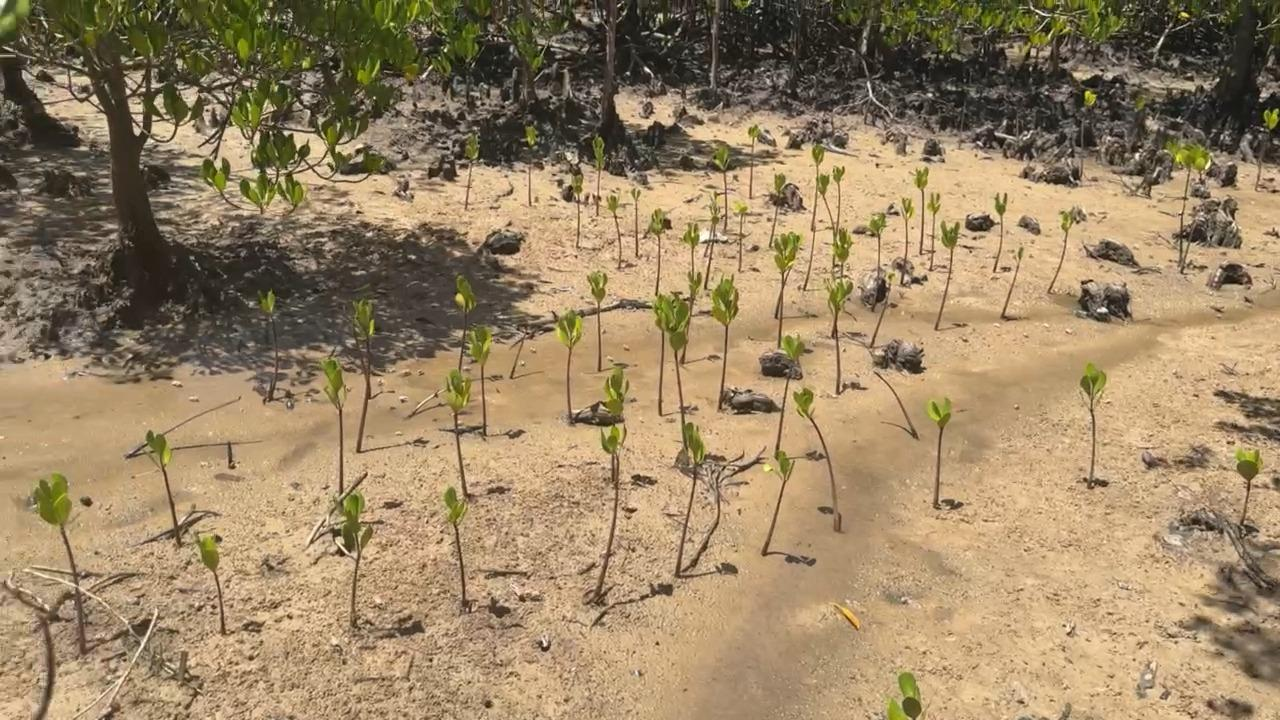Tree: (32, 474, 86, 654), (793, 388, 840, 530), (594, 421, 628, 599), (332, 491, 373, 624), (1166, 137, 1207, 257), (660, 295, 691, 450), (142, 429, 182, 544), (774, 333, 809, 462), (675, 422, 703, 574), (1181, 152, 1212, 273), (713, 271, 740, 408), (320, 356, 346, 496), (352, 299, 375, 452), (824, 277, 853, 395), (1080, 362, 1108, 482), (763, 449, 795, 552), (771, 231, 798, 348), (447, 368, 471, 499), (816, 165, 846, 268), (195, 535, 225, 635), (559, 308, 584, 421), (444, 486, 468, 602), (342, 300, 371, 396), (255, 289, 280, 399), (771, 231, 801, 320), (935, 222, 959, 332), (469, 323, 492, 434), (928, 397, 952, 503), (643, 207, 671, 295), (651, 293, 671, 414), (1047, 210, 1074, 292), (586, 271, 608, 369), (454, 274, 475, 375), (1255, 109, 1280, 190), (681, 269, 701, 364), (1237, 449, 1262, 524), (1076, 90, 1097, 178), (712, 145, 733, 231), (870, 273, 894, 348), (701, 201, 720, 289), (909, 167, 928, 254), (889, 672, 922, 720), (1002, 246, 1023, 318), (925, 189, 941, 271), (465, 134, 482, 208), (810, 144, 824, 230), (702, 191, 720, 256), (832, 227, 854, 280), (605, 196, 621, 268), (769, 172, 784, 247), (993, 192, 1007, 272), (591, 133, 604, 213), (683, 223, 701, 279), (731, 199, 745, 269), (870, 211, 887, 267), (573, 174, 585, 248), (900, 196, 914, 259), (804, 224, 817, 288), (748, 124, 759, 198), (630, 187, 641, 254), (526, 126, 535, 206), (511, 331, 526, 378)
